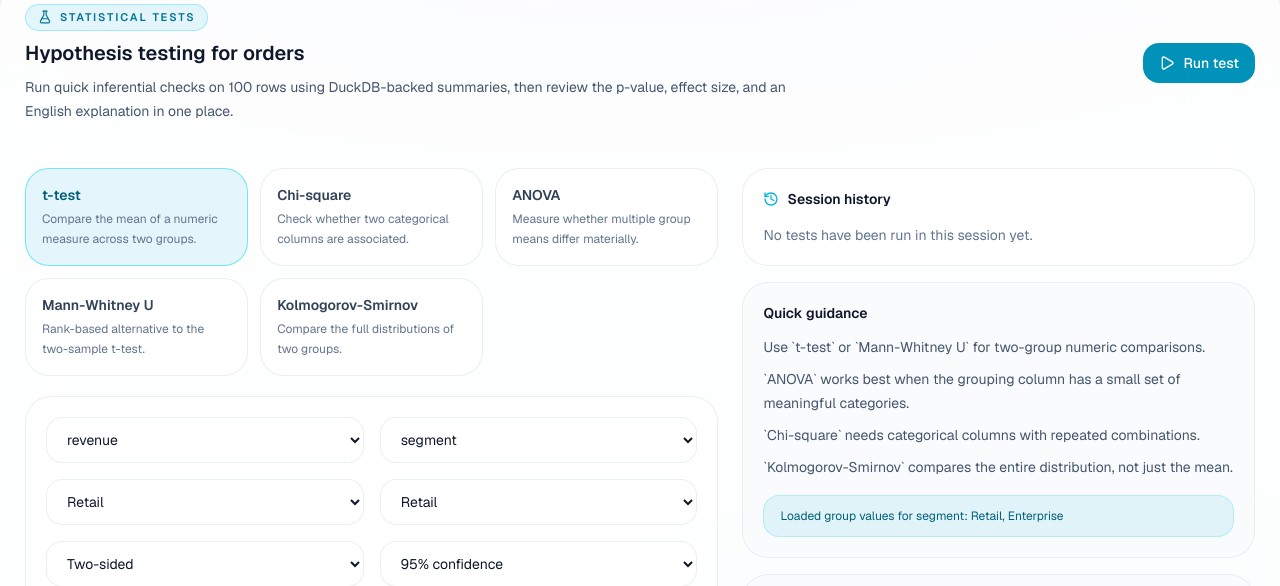
Test: StatisticalTests › switches to ANOVA and renders a non-significant result
expect the text "Loaded group values for segment: Retail, Enterprise" is shown: met, box top-left (763, 494), bottom-right (1234, 536)
Click the button "ANOVA" at (607, 216), box top-left (495, 168), bottom-right (718, 266)
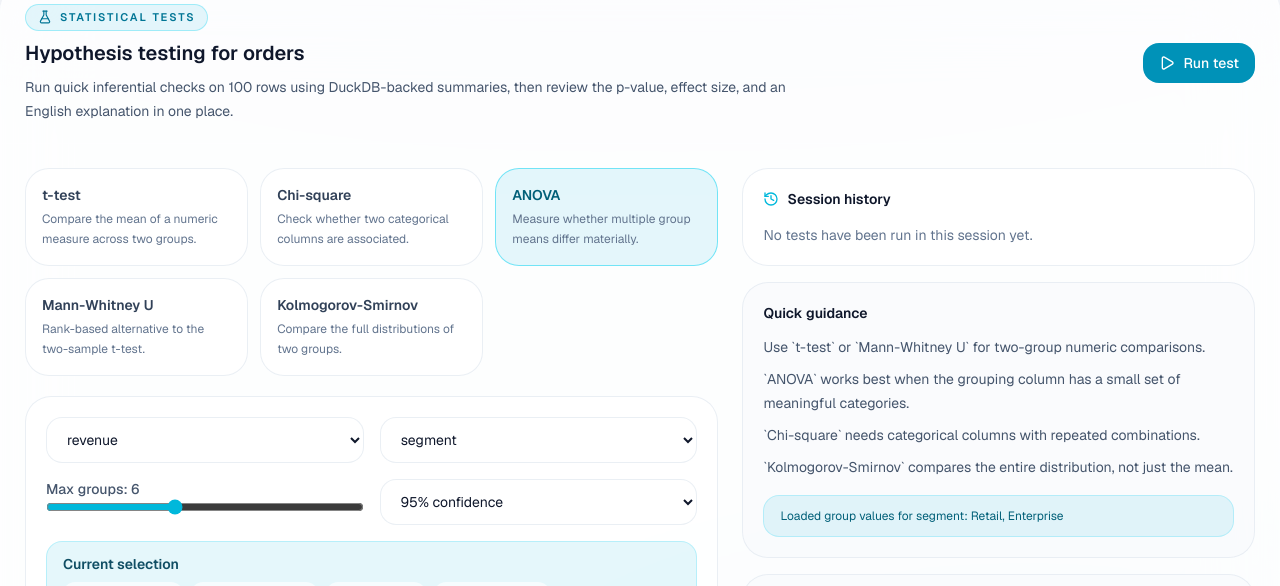
Click the button "Run test" at (1199, 63), box top-left (1143, 43), bottom-right (1255, 83)
(page scrolled)
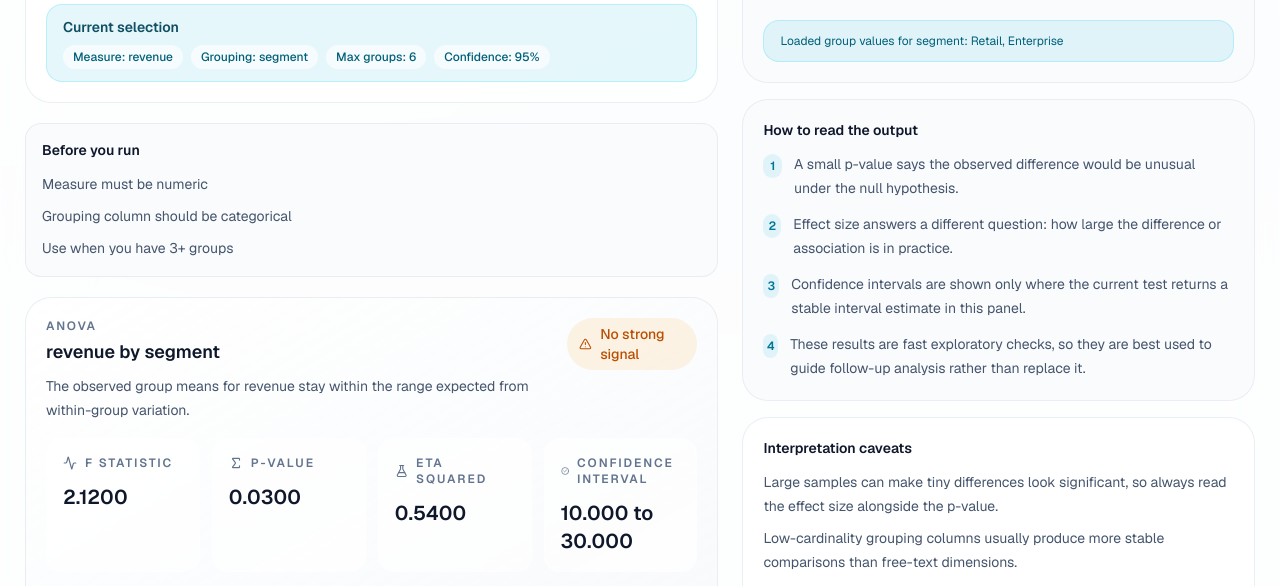
expect the number of headings "revenue by segment" is 2: met
expect the text "No strong signal" is shown: met, box top-left (567, 318), bottom-right (698, 370)
